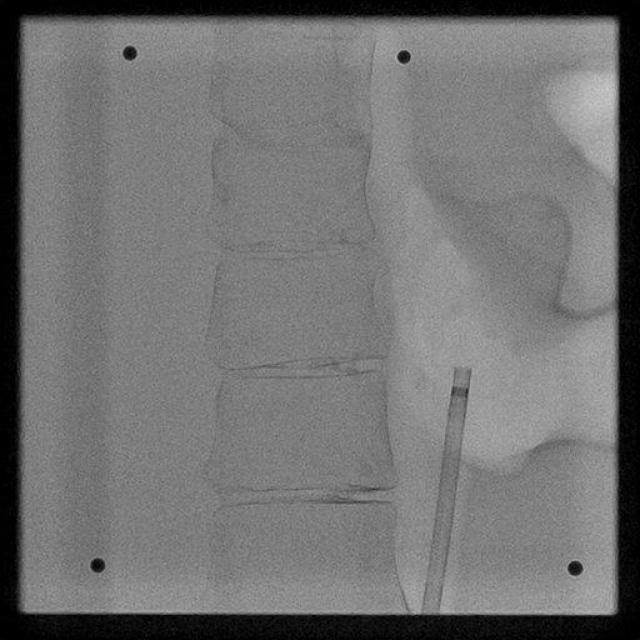bend: (426, 572, 445, 584)
entry: (420, 608, 440, 614)
marker: (450, 384, 470, 397)
tip: (454, 363, 472, 371)
